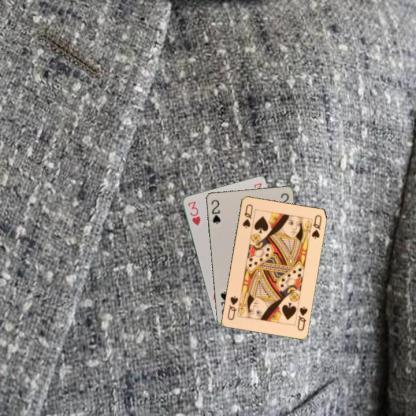2s: (208, 196, 222, 226)
3h: (185, 198, 202, 227)
Qs: (294, 303, 309, 332), (239, 201, 254, 229)
